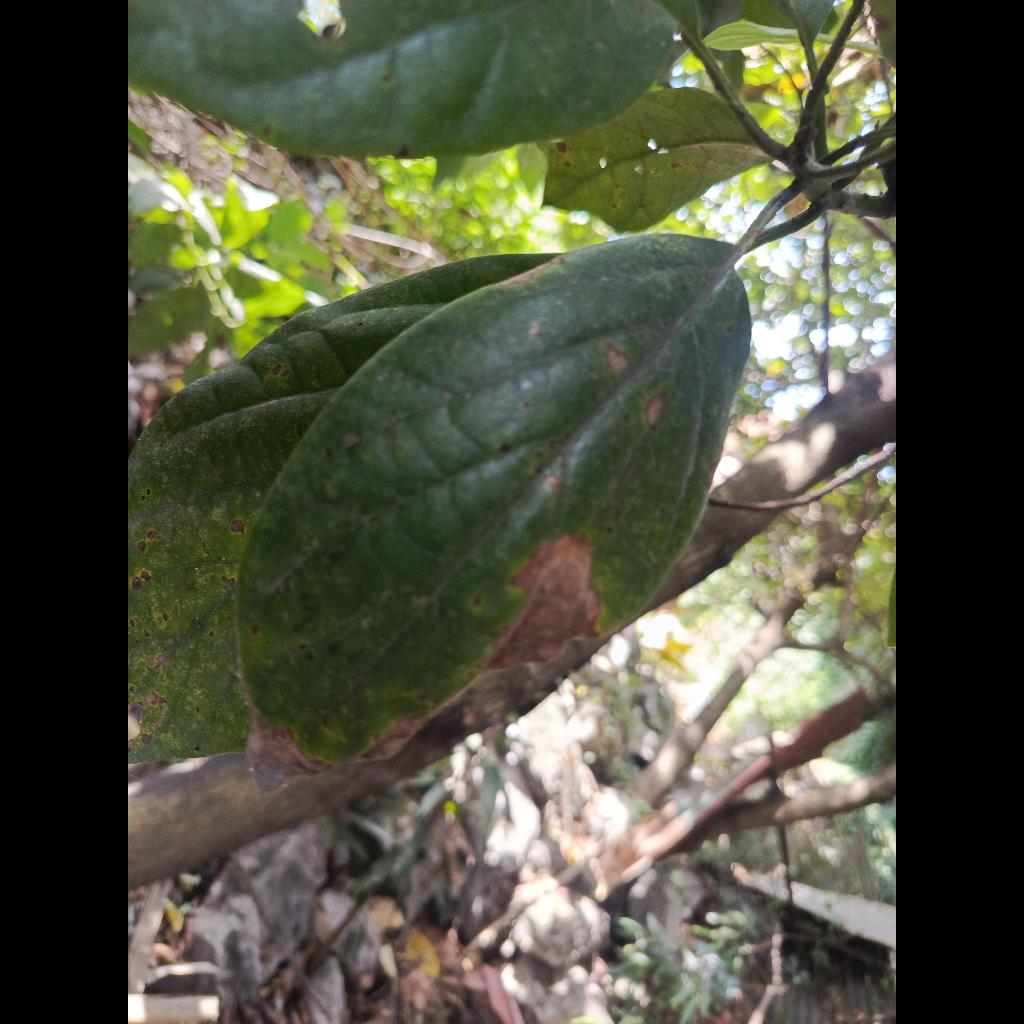Anthracnose: (237, 235, 751, 760)
